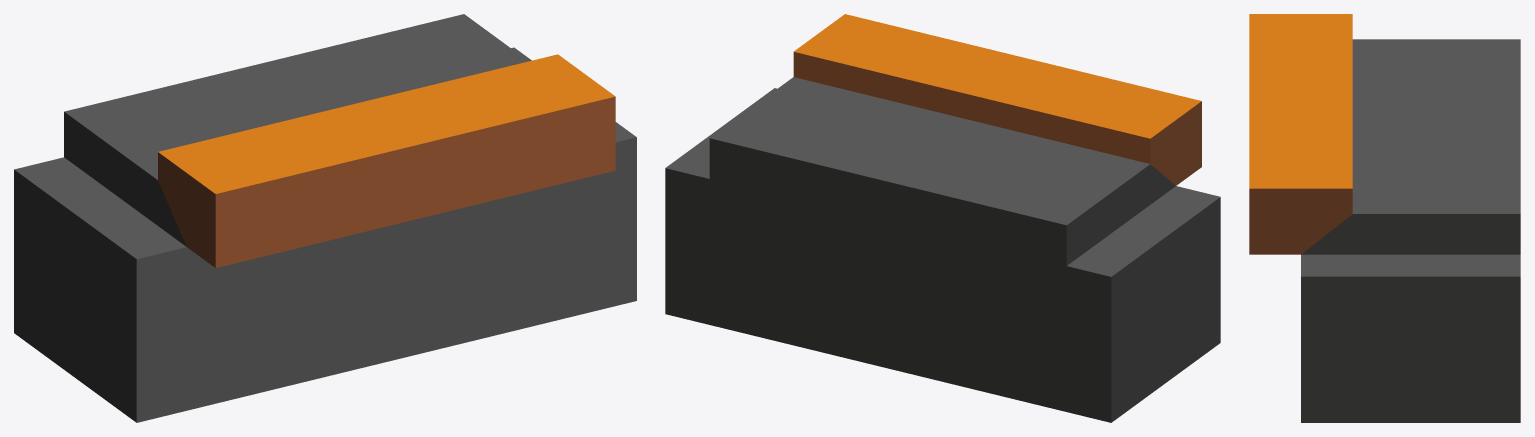
File: COSMIC_F_Perimeter_1U_Add.fbx
3 views of the same model, side by side, from view 1: azimuth 30°, elevation 25°; view 2: azimuth 150°, elevation 25°; view 3: azimuth 270°, elevation 25° (orthographic). The views are drawn at different scales.
Parts seen in each view (by area): view 1: COSMIC_F_Perimeter_1U_Add; view 2: COSMIC_F_Perimeter_1U_Add; view 3: COSMIC_F_Perimeter_1U_Add.
Boxes of the visible parts, left/top/right/bottom form: COSMIC_F_Perimeter_1U_Add: left=14, top=14, right=636, bottom=422; COSMIC_F_Perimeter_1U_Add: left=665, top=14, right=1220, bottom=422; COSMIC_F_Perimeter_1U_Add: left=1249, top=14, right=1520, bottom=422.
Size of the model in its own units: 0.625 by 0.2839 by 0.3281.
